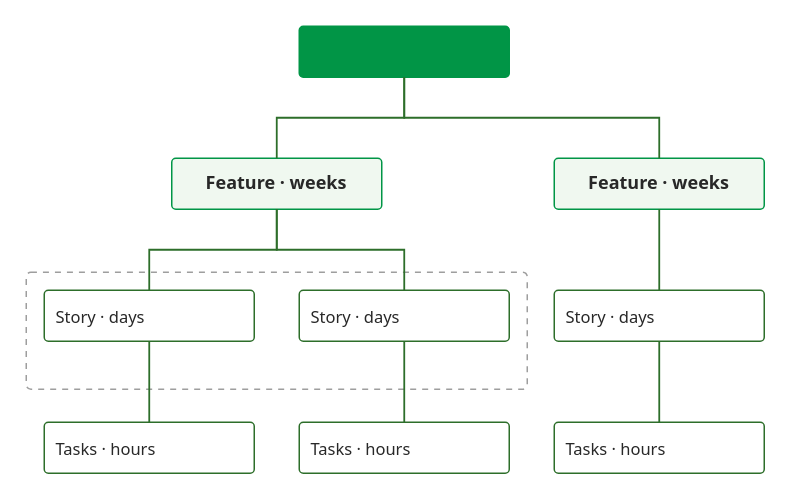
Image size: 791x500. Some labels were removed from this diagram. The box of each missing label's shape, as (x1, y1, x2, y2) in pixels:
Epic · months: (298, 25, 509, 77)
Theme: a group of related stories: (25, 271, 527, 389)
